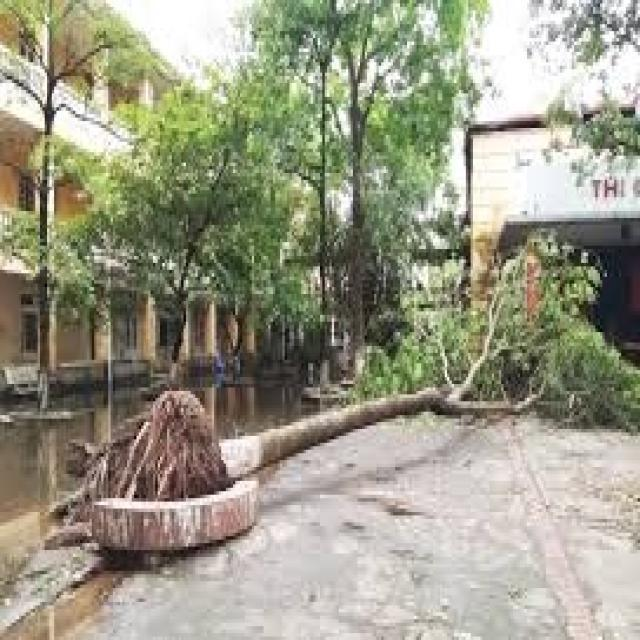fallen_object: (92, 289, 640, 521)
